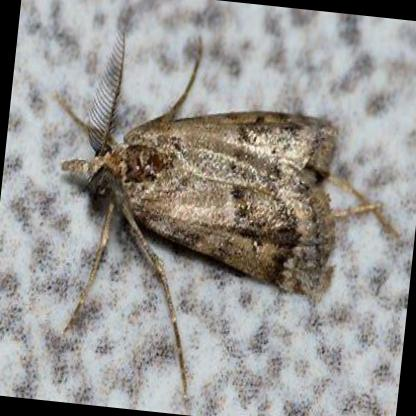Hellula undalis: (51, 7, 410, 404)
